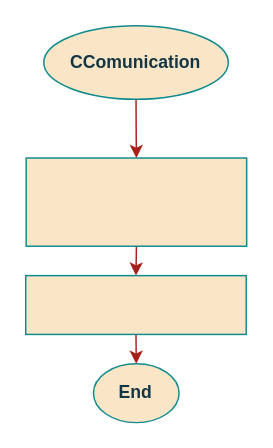
Image size: 273x448. Some labels were removed from this diagram. The shapes that lost their labels are listed below. From the top down, each one's box as (x1, y1, x2, y2) in pixels, then its label:
(25, 157, 247, 246): Init mutTxMsgs Init mutComms Init condtSend
(24, 274, 246, 334): Create TxMsgs with maximum size defined
